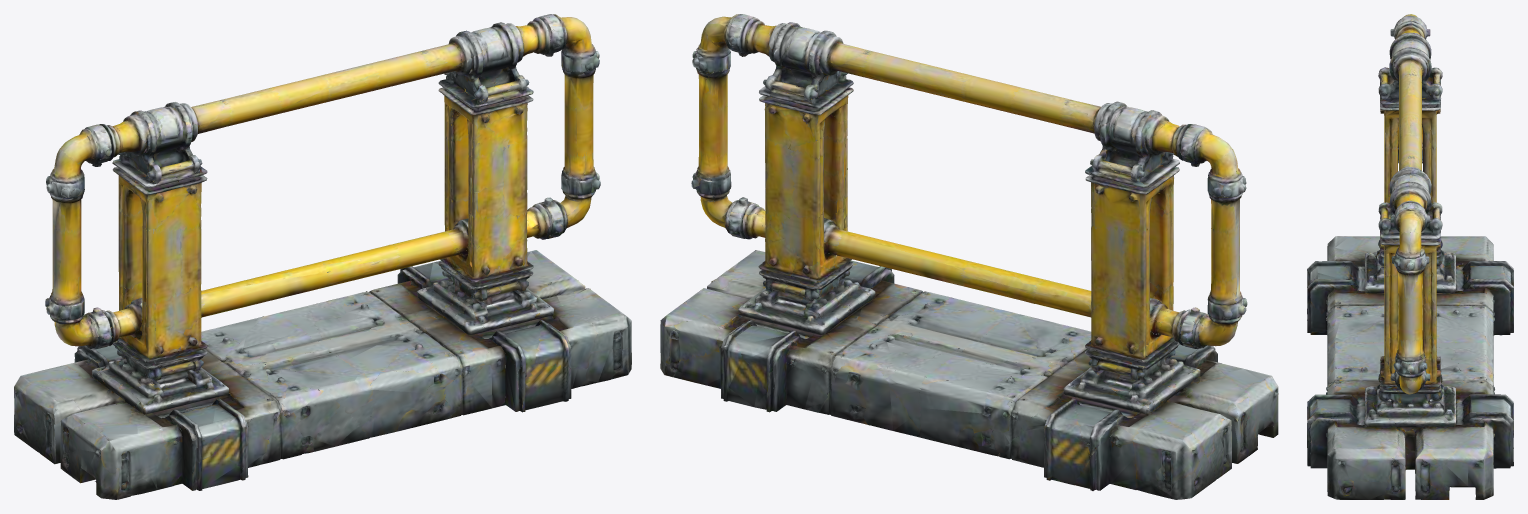
File: obstaculo-saltar_opt.glb
3 views of the same model, side by side, from view 1: azimuth 30°, elevation 25°; view 2: azimuth 150°, elevation 25°; view 3: azimuth 270°, elevation 25° (orthographic). The views are drawn at different scales.
Visible parts, largest first — view 1: Mesh_0; view 2: Mesh_0; view 3: Mesh_0.
Boxes of the visible parts, x1,y1,x2,y2 form: Mesh_0: (14, 14, 631, 499); Mesh_0: (660, 14, 1278, 499); Mesh_0: (1307, 14, 1513, 499).
Bounding box in the file's own units: 1.9 × 1.1 × 0.7315.
1 material, 1 textured.
